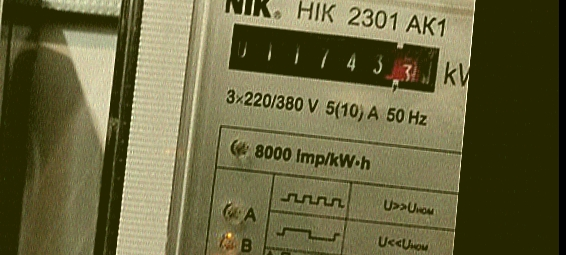0: (234, 32, 251, 60)
1: (261, 34, 278, 63), (289, 37, 304, 66)
3: (369, 49, 386, 77), (398, 61, 415, 83)
4: (344, 47, 360, 73)
7: (316, 43, 332, 69)
screen: (219, 16, 450, 100)
